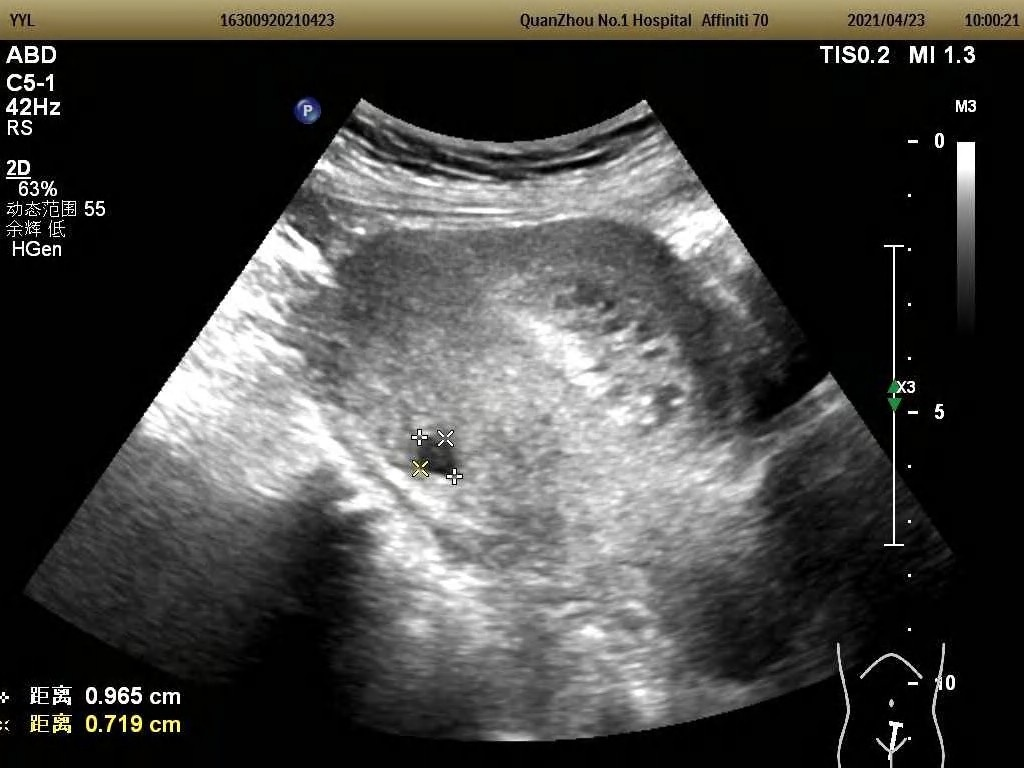肌瘤: (416, 437, 462, 480)
